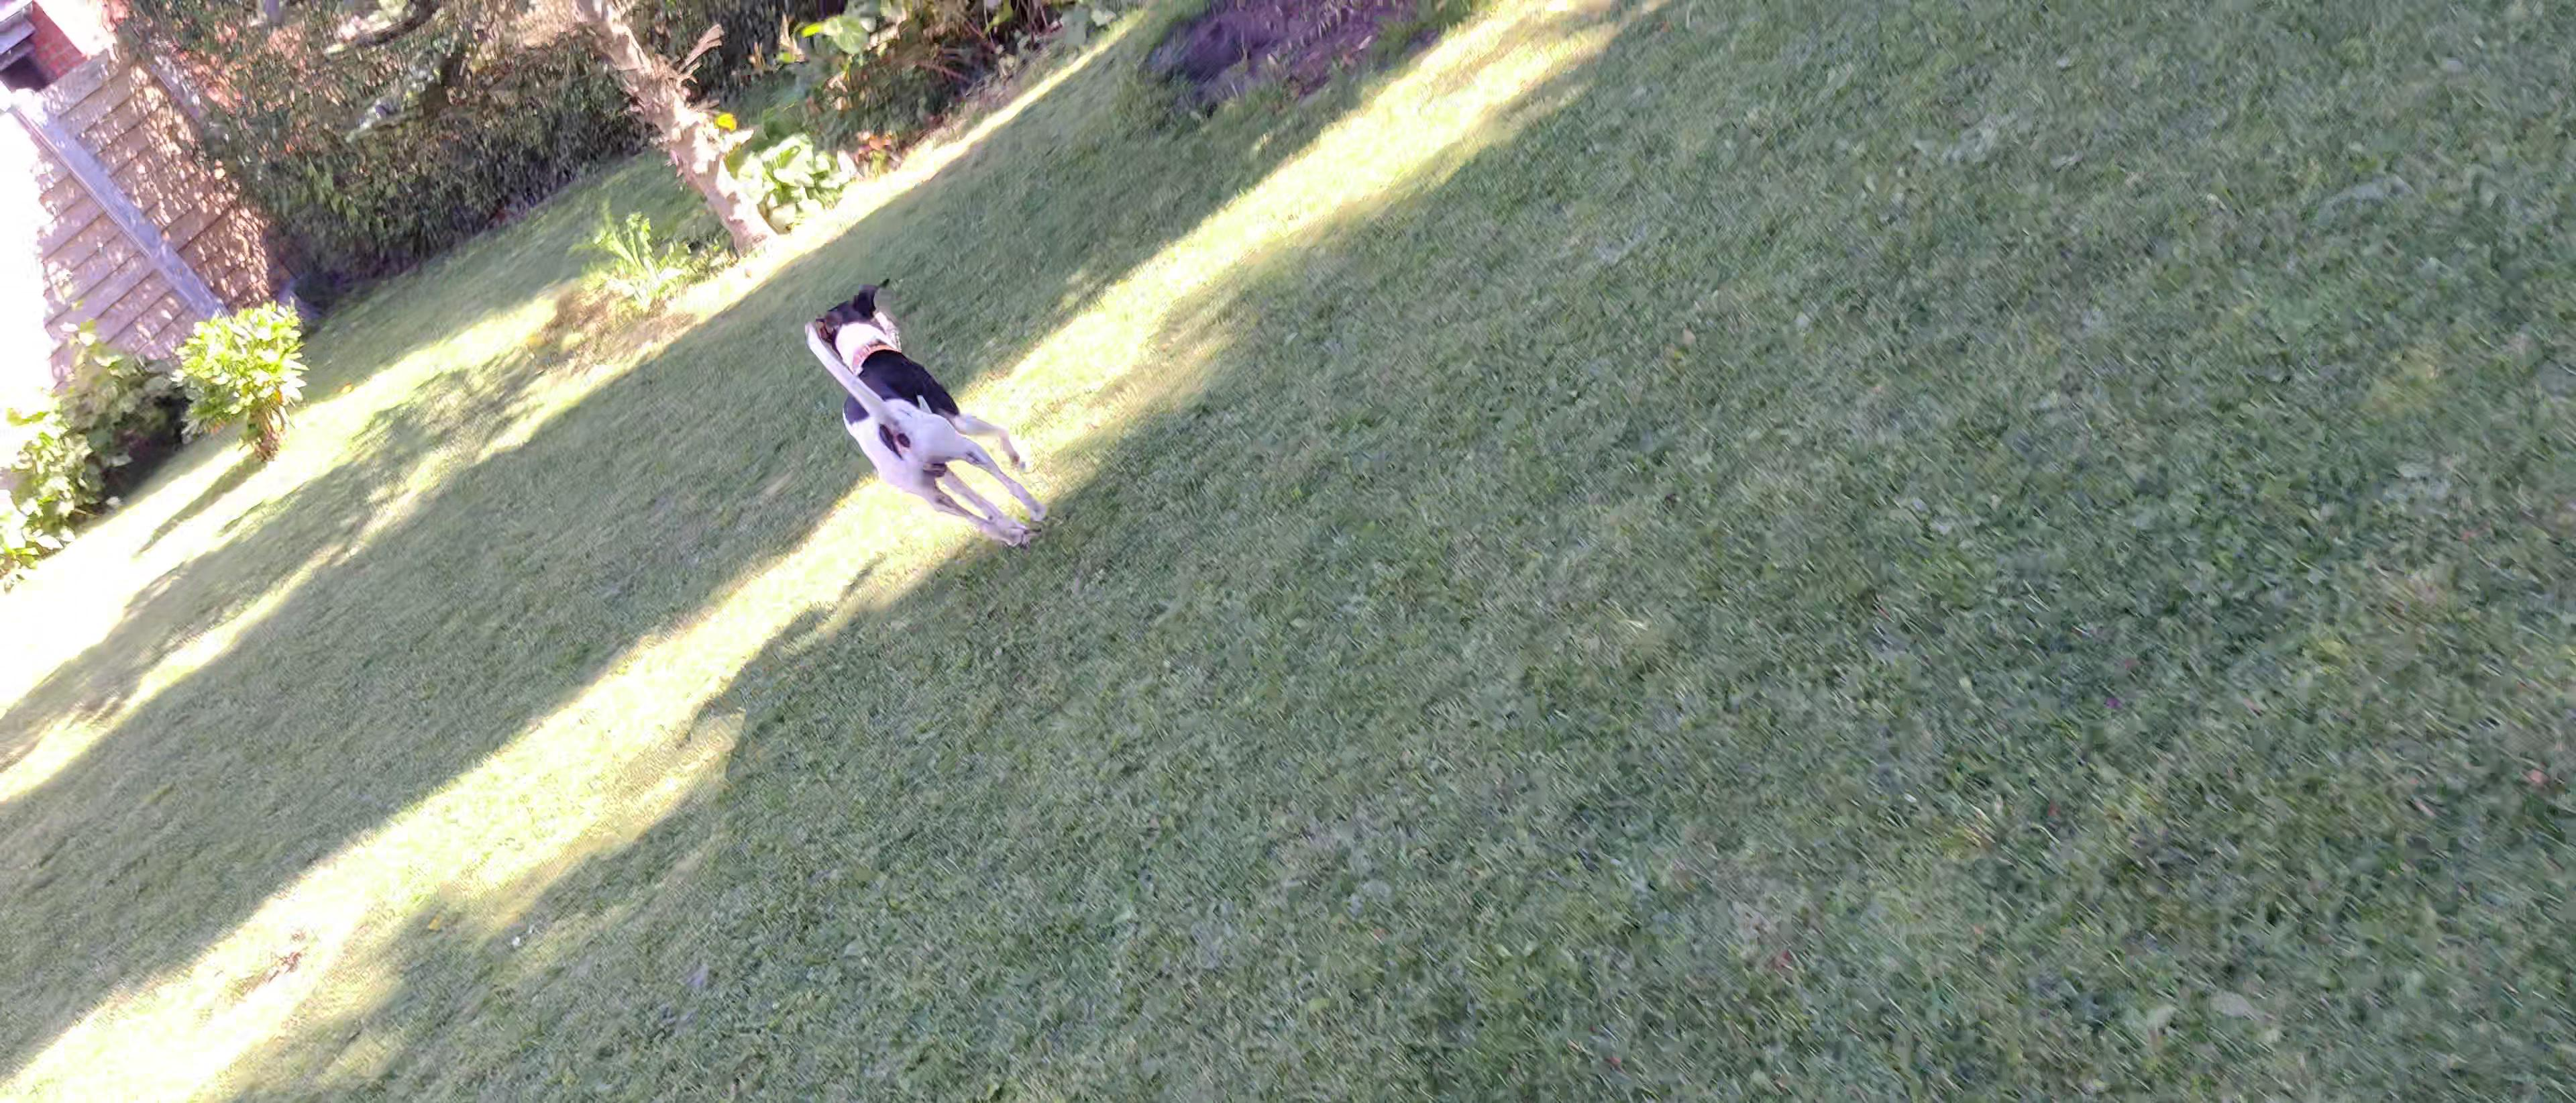Dog: (792, 266, 1053, 549)
